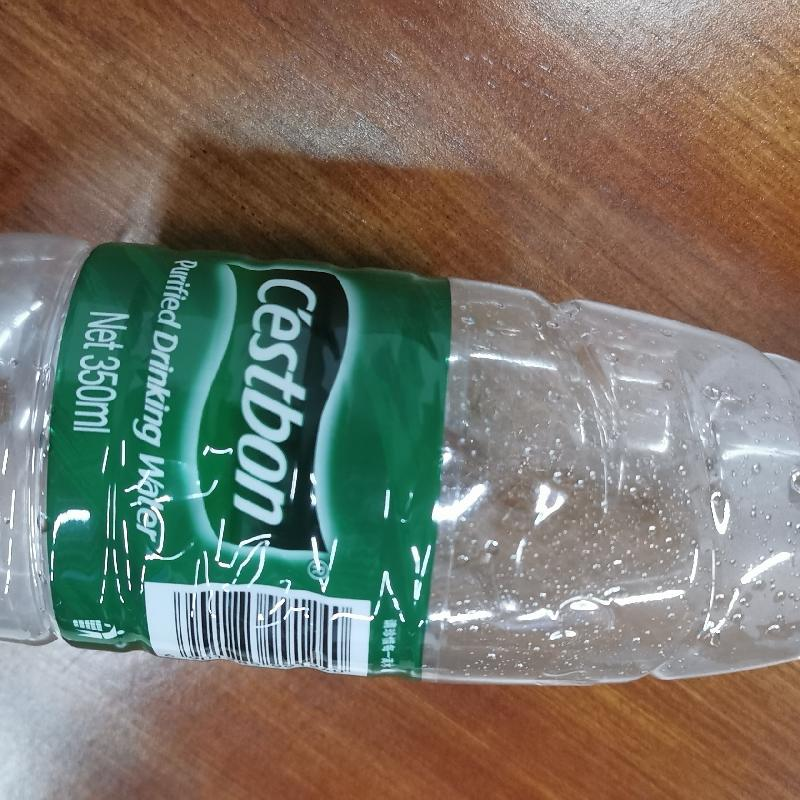bottles: (1, 226, 799, 687)
